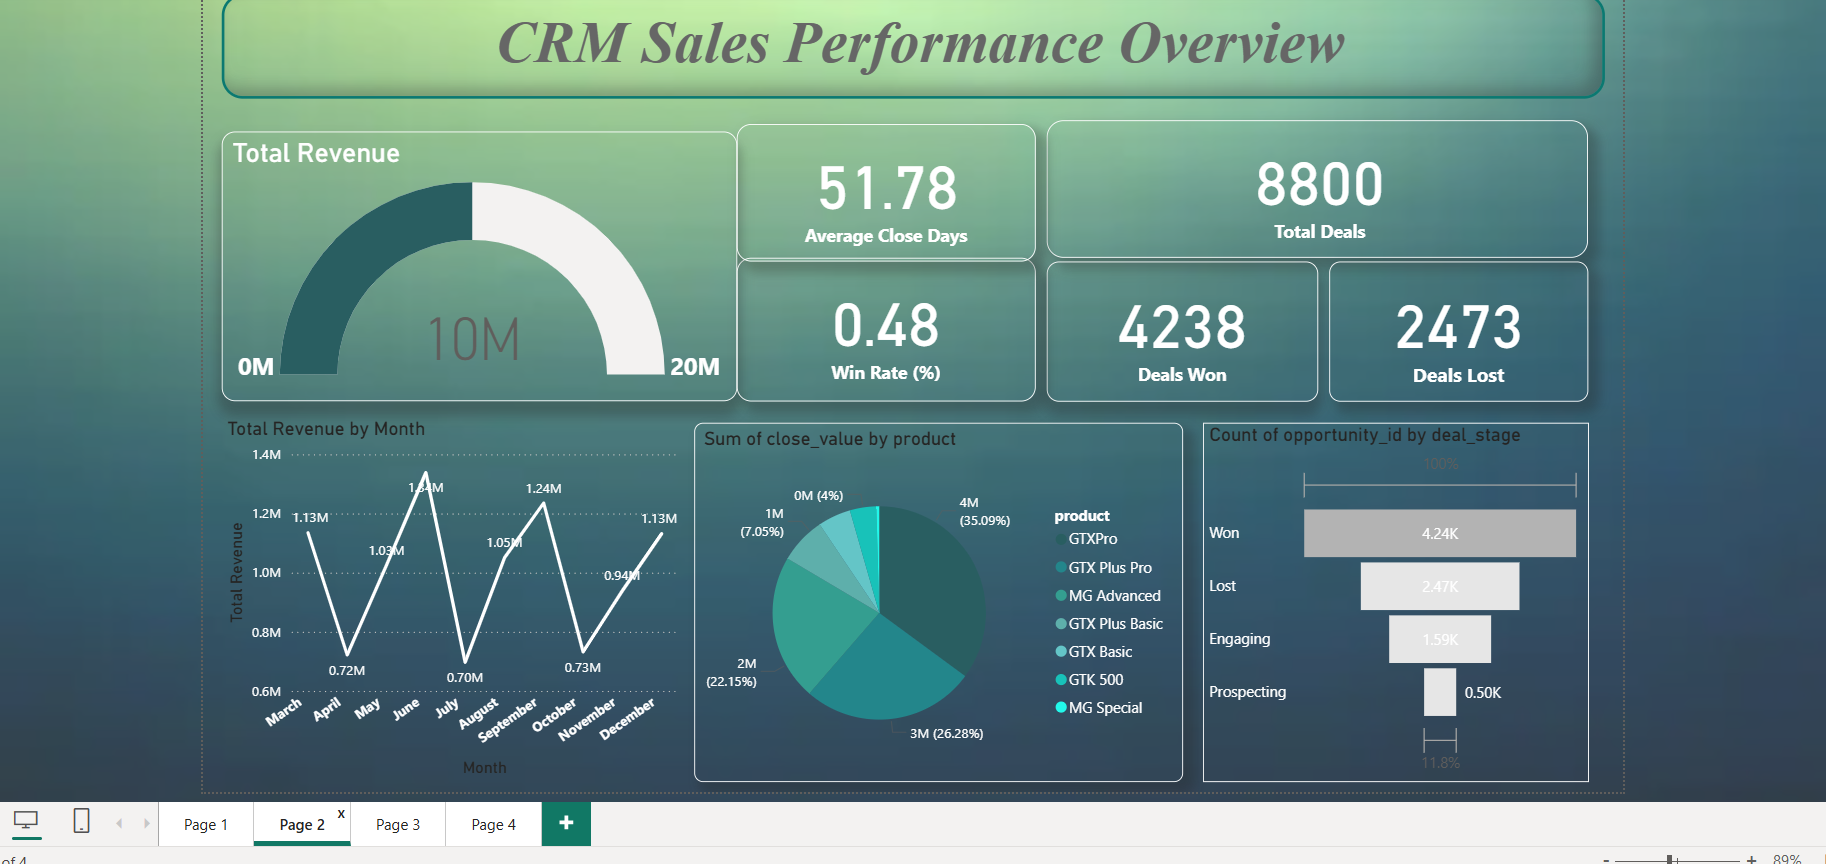

This screenshot's page, from the dashboard's own definition file:
{"tool":"powerbi","page":{"name":"Page 2","canvas":[1280,720],"ordinal":1},"visuals":[{"type":"gauge","fields":{"Y":["sales_pipeline2.Total Revenue"]},"box":[16.9,117.2,464.4,250.2],"z":0},{"type":"card","fields":{"Values":["accounts4.Total Deals"]},"box":[761,114.1,488.3,123.8],"z":1000},{"type":"card","fields":{"Values":["accounts4.Deals Won"]},"box":[761,240.7,244.9,126.6],"z":2000},{"type":"card","fields":{"Values":["accounts4.Deals Lost"]},"box":[1015.7,240.7,233.7,126.6],"z":3000},{"type":"funnel","fields":{"Category":["sales_pipeline2.deal_stage"],"Y":["CountNonNull(sales_pipeline2.opportunity_id)"]},"box":[901.6,386.8,347.8,324.2],"z":4000},{"type":"pieChart","title":"top selling product","fields":{"Y":["Sum(sales_pipeline2.close_value)"],"Category":["sales_pipeline2.product"]},"box":[442.4,386.8,441,324.2],"z":5000},{"type":"textbox","box":[17.1,0,1247.1,94.3],"z":6000},{"type":"card","fields":{"Values":["sales_pipeline2.Win Rate (%)"]},"box":[481.4,237.9,269.9,129.4],"z":7000},{"type":"card","fields":{"Values":["sales_pipeline2.Average Close Days"]},"box":[481.4,116.9,269.9,123.8],"z":8000},{"type":"lineChart","fields":{"Category":["sales_pipeline2.close_date.Variation.Date Hierarchy.Month"],"Y":["sales_pipeline2.Total Revenue"]},"box":[16.7,382.6,416,328.3],"z":9000}]}

Visuals, with their boxes on the page's 1280x720 design canvas (x1, y1, x2, y2). These are canvas units, not pixel positions in the 1826x864 screenshot, which may show the page scaled, cropped or inside an application window:
gauge - sales_pipeline2.Total Revenue: left=17, top=117, right=481, bottom=367
card - accounts4.Total Deals: left=761, top=114, right=1249, bottom=238
card - accounts4.Deals Won: left=761, top=241, right=1006, bottom=367
card - accounts4.Deals Lost: left=1016, top=241, right=1249, bottom=367
funnel - sales_pipeline2.deal_stage x CountNonNull(sales_pipeline2.opportunity_id): left=902, top=387, right=1249, bottom=711
"top selling product" pieChart: left=442, top=387, right=883, bottom=711
textbox: left=17, top=0, right=1264, bottom=94
card - sales_pipeline2.Win Rate (%): left=481, top=238, right=751, bottom=367
card - sales_pipeline2.Average Close Days: left=481, top=117, right=751, bottom=241
lineChart - sales_pipeline2.close_date.Variation.Date Hierarchy.Month x sales_pipeline2.Total Revenue: left=17, top=383, right=433, bottom=711
